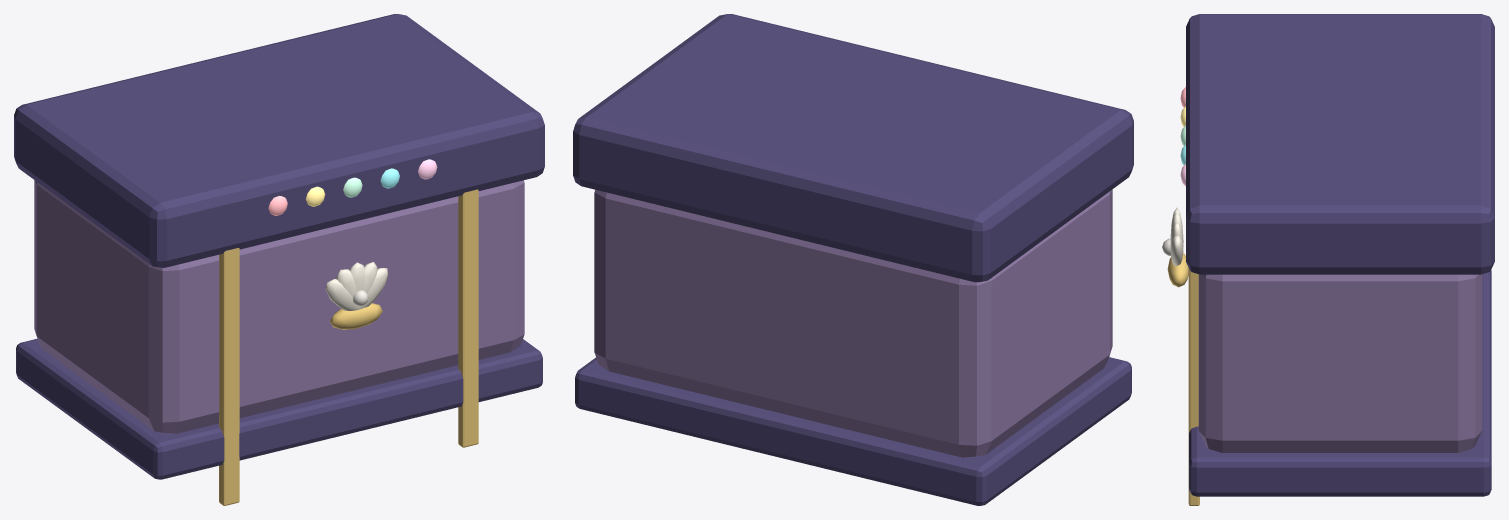
Rendered from pearl_secret_chest.glb.
3 renders of one model, left to right at view 1: azimuth 30°, elevation 25°; view 2: azimuth 150°, elevation 25°; view 3: azimuth 270°, elevation 25°, orthographic. The views are drawn at different scales.
Visible parts, largest first — view 1: pearl_secret_chest.001; view 2: pearl_secret_chest.001; view 3: pearl_secret_chest.001.
Part boxes in pixels (box(x1,y1,x2,y2)): pearl_secret_chest.001: box(14, 14, 544, 505); pearl_secret_chest.001: box(573, 14, 1133, 505); pearl_secret_chest.001: box(1162, 14, 1494, 505).
Size of the model in its own units: 7.6 by 5.79 by 5.28.
